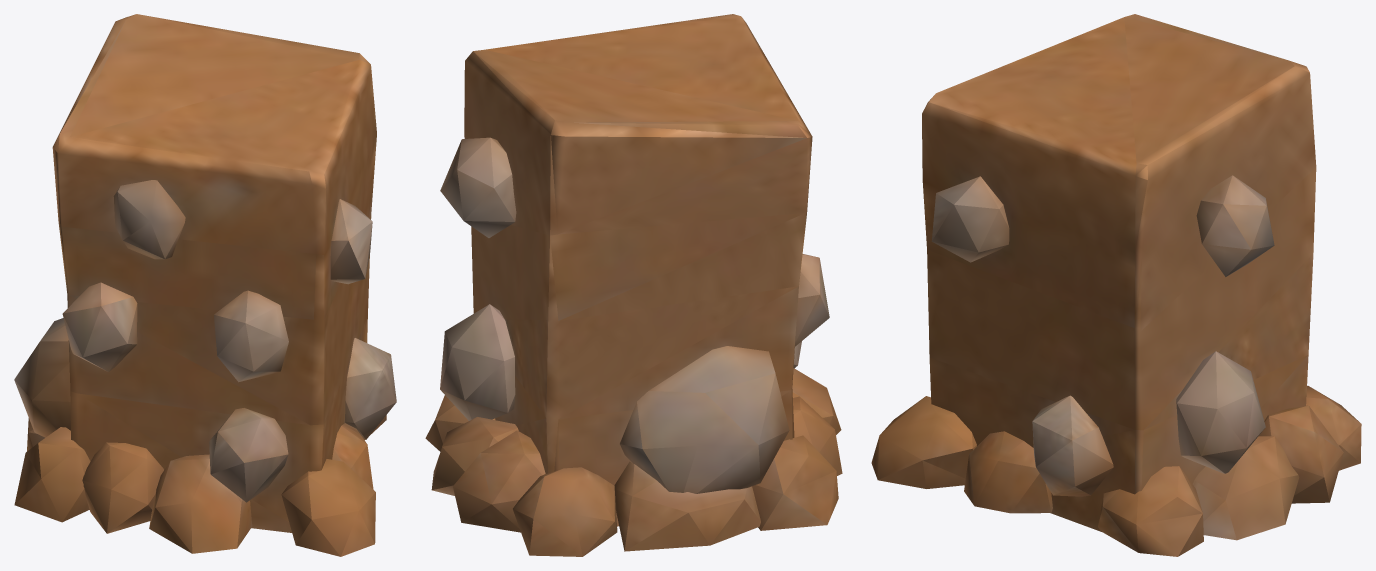
File: bloque_tierra_1.glb
3 views of the same model, side by side, from view 1: azimuth 30°, elevation 25°; view 2: azimuth 150°, elevation 25°; view 3: azimuth 270°, elevation 25° (orthographic). The views are drawn at different scales.
Visible parts, largest first — view 1: bloque_tierra_1_malla; view 2: bloque_tierra_1_malla; view 3: bloque_tierra_1_malla.
Part boxes in pixels (x1,y1,x2,y2): bloque_tierra_1_malla: (14,14,396,556); bloque_tierra_1_malla: (425,14,842,556); bloque_tierra_1_malla: (871,14,1361,556).
Size of the model in its own units: 0.2144 by 0.2174 by 0.2384.
1 material, 1 textured.
